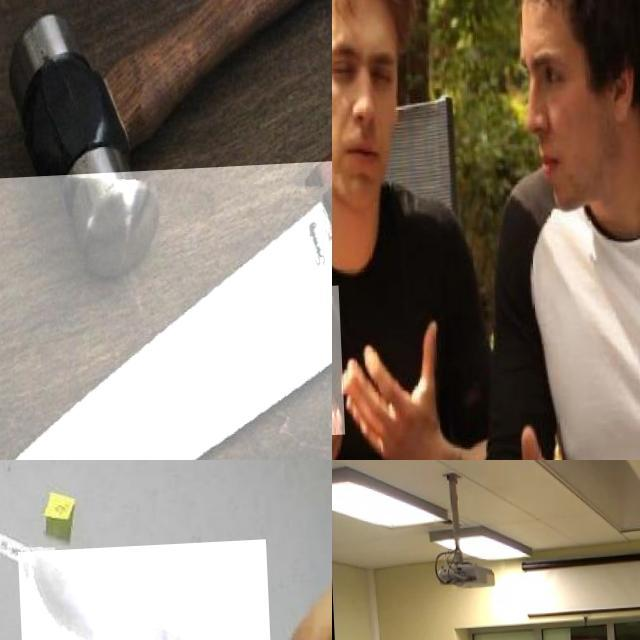-: (0, 164, 332, 460), (14, 543, 268, 640), (332, 286, 371, 439)
